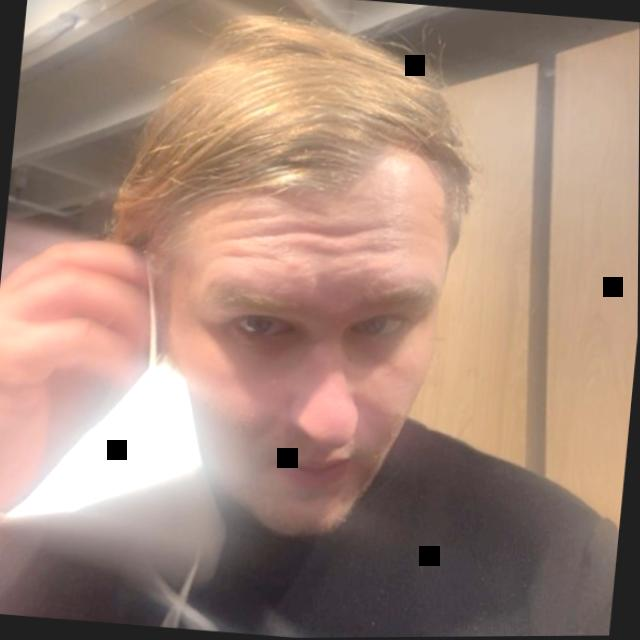NO-Mask: (104, 0, 500, 541)
